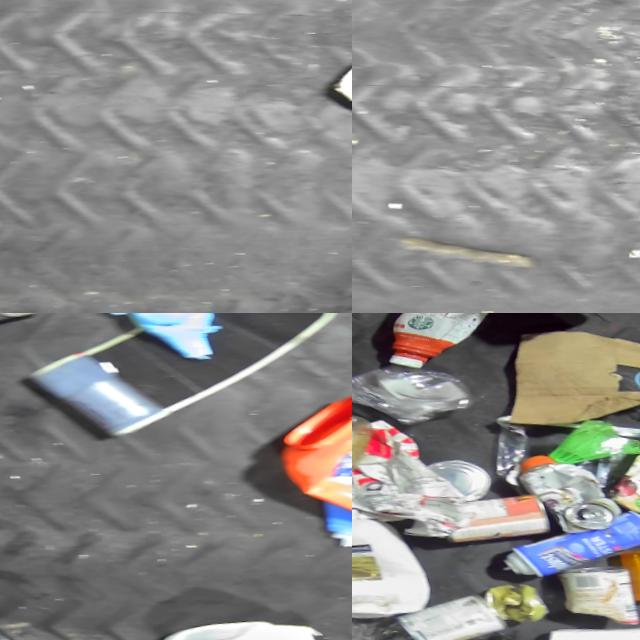can: (490, 504, 640, 596), (508, 462, 622, 548), (434, 491, 550, 556), (547, 566, 639, 638), (387, 590, 506, 640), (472, 583, 547, 634), (419, 460, 491, 512)
milk_jug: (352, 501, 432, 629), (133, 610, 331, 640)
non_white_jug: (255, 375, 352, 561), (376, 313, 511, 382)
